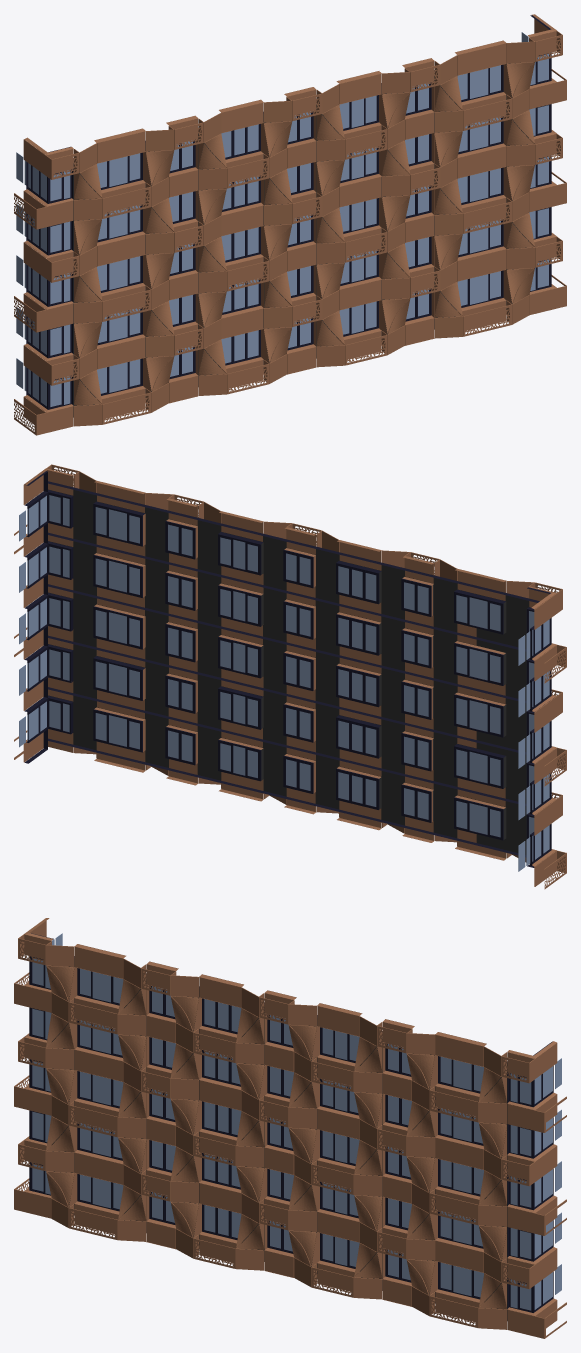
File: kav_3.gltf
The picture shows the model from 3 angles, top to bottom: view 1: azimuth 30°, elevation 25°; view 2: azimuth 150°, elevation 25°; view 3: azimuth 330°, elevation 25°; orthographic projection.
Parts seen in each view (by area): view 1: 07 Стекло_СТК_Стекло по ГОСТ.001, Ramy_111.001, 05 Металл_СТЛ_Отлив_RAL 7024 Графит_290, Line198.001, Line195.001, Line191.001, Line201.001, Line197.001, Line194.001, 08 ВЗ_Воздушный зазор.001, Generic.001, Curve_Panel_174.001 (+45 smaller); view 2: 08 ВЗ_Воздушный зазор.001, 07 Стекло_СТК_Стекло по ГОСТ.001, 05 Металл_СТЛ_Отлив_RAL 7024 Графит_290, Generic.001, Line191.001, Ramy_111.001, Line201.001, Line194.001, Line197.001, Line198.001, Line195.001; view 3: 07 Стекло_СТК_Стекло по ГОСТ.001, Ramy_111.001, 05 Металл_СТЛ_Отлив_RAL 7024 Графит_290, Line191.001, Line195.001, Line198.001, Line201.001, Line197.001, Line194.001, 08 ВЗ_Воздушный зазор.001, Generic.001, Curve_Panel_216.001 (+45 smaller).
Boxes of the visible parts, bbox=[...] form: 07 Стекло_СТК_Стекло по ГОСТ.001: bbox=[16, 32, 548, 406]; Ramy_111.001: bbox=[24, 14, 556, 418]; 05 Металл_СТЛ_Отлив_RAL 7024 Графит_290: bbox=[27, 52, 551, 409]; Line198.001: bbox=[14, 172, 566, 332]; Line195.001: bbox=[14, 69, 566, 229]; Line191.001: bbox=[23, 19, 562, 179]; Line201.001: bbox=[14, 275, 566, 435]; Line197.001: bbox=[23, 237, 562, 385]; Line194.001: bbox=[23, 134, 562, 282]; 08 ВЗ_Воздушный зазор.001: bbox=[73, 63, 528, 417]; Generic.001: bbox=[25, 15, 551, 404]; Curve_Panel_174.001: bbox=[506, 62, 534, 97]; 08 ВЗ_Воздушный зазор.001: bbox=[48, 489, 531, 854]; 07 Стекло_СТК_Стекло по ГОСТ.001: bbox=[19, 495, 549, 871]; 05 Металл_СТЛ_Отлив_RAL 7024 Графит_290: bbox=[28, 492, 551, 863]; Generic.001: bbox=[24, 471, 553, 867]; Line191.001: bbox=[23, 464, 562, 629]; Ramy_111.001: bbox=[24, 468, 556, 866]; Line201.001: bbox=[14, 729, 566, 889]; Line194.001: bbox=[23, 574, 562, 732]; Line197.001: bbox=[23, 677, 562, 835]; Line198.001: bbox=[14, 626, 566, 786]; Line195.001: bbox=[14, 523, 566, 683]; 07 Стекло_СТК_Стекло по ГОСТ.001: bbox=[32, 933, 561, 1310]; Ramy_111.001: bbox=[24, 918, 556, 1322]; 05 Металл_СТЛ_Отлив_RAL 7024 Графит_290: bbox=[29, 956, 553, 1312]; Line191.001: bbox=[18, 918, 557, 1083]; Line195.001: bbox=[14, 972, 566, 1132]; Line198.001: bbox=[14, 1075, 566, 1235]; Line201.001: bbox=[14, 1178, 566, 1338]; Line197.001: bbox=[18, 1136, 557, 1289]; Line194.001: bbox=[18, 1033, 557, 1186]; 08 ВЗ_Воздушный зазор.001: bbox=[51, 958, 507, 1320]; Generic.001: bbox=[31, 933, 553, 1308]; Curve_Panel_216.001: bbox=[354, 1092, 382, 1128].
Size of the model in its own units: 32.38 by 16.24 by 4.2.
